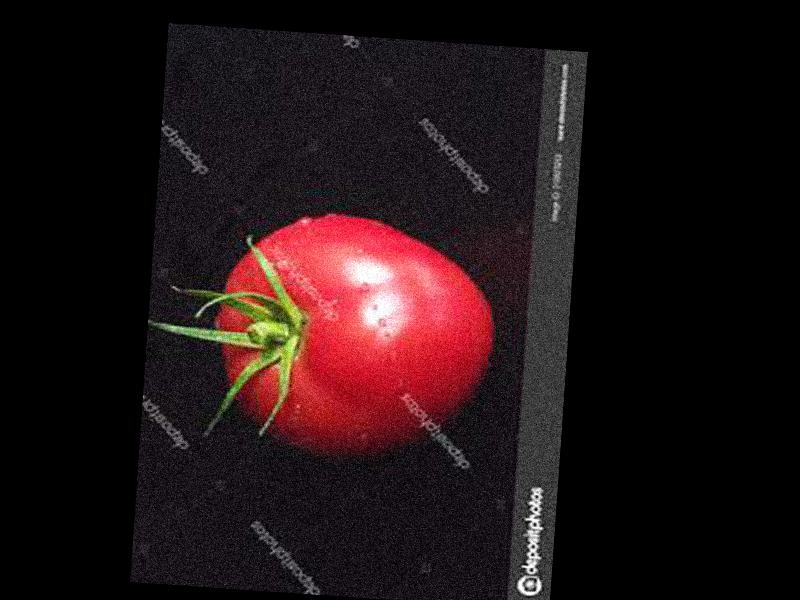Tomato: (208, 206, 500, 465)
